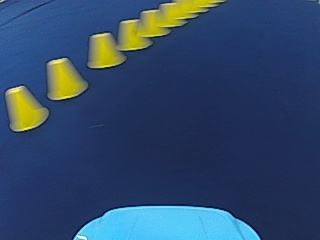cone: (5, 85, 48, 131), (44, 56, 87, 100), (86, 31, 124, 68), (116, 19, 148, 51), (136, 9, 166, 38), (156, 3, 182, 27)
